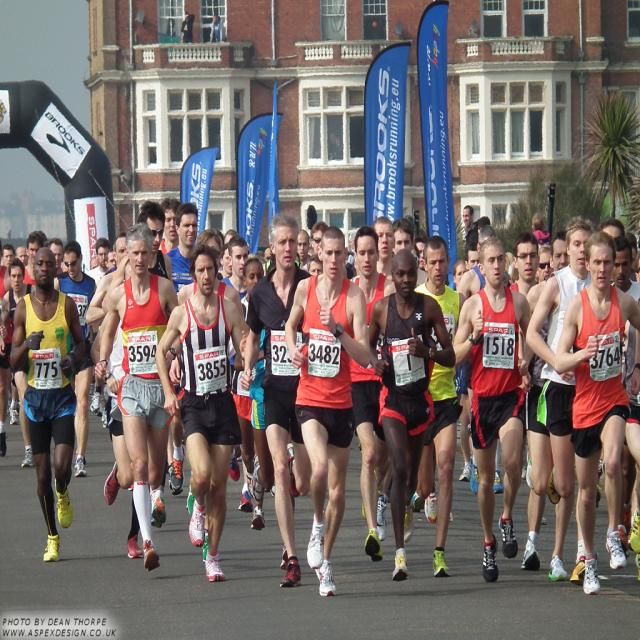Bib: (310, 344, 342, 370), (590, 345, 622, 371), (485, 336, 519, 360), (195, 362, 228, 386), (32, 359, 60, 381), (270, 346, 298, 366), (128, 346, 153, 366), (399, 353, 419, 373)
